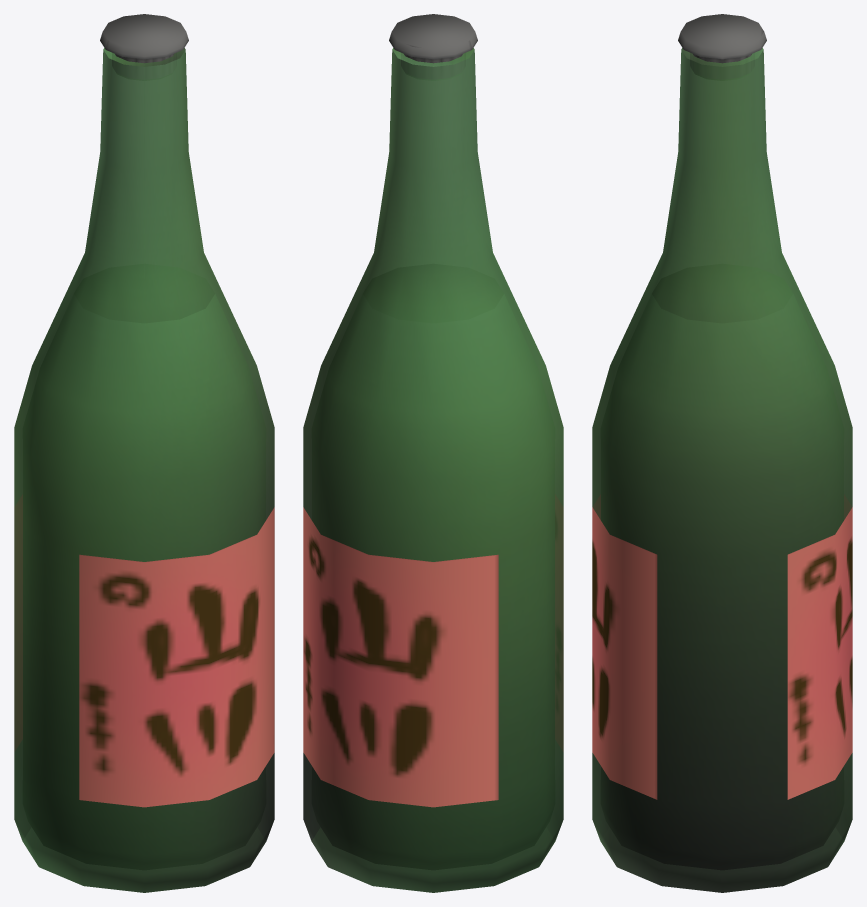
File: sake01e.fbx
The picture shows the model from 3 angles, left to right: view 1: azimuth 30°, elevation 25°; view 2: azimuth 150°, elevation 25°; view 3: azimuth 270°, elevation 25°; orthographic projection.
Visible parts, largest first — view 1: sake01e; view 2: sake01e; view 3: sake01e.
Boxes of the visible parts, x1,y1,x2,y2 form: sake01e: [14, 14, 274, 892]; sake01e: [303, 14, 563, 892]; sake01e: [592, 14, 852, 892].
Size of the model in its own units: 13.37 by 45.94 by 13.37.
